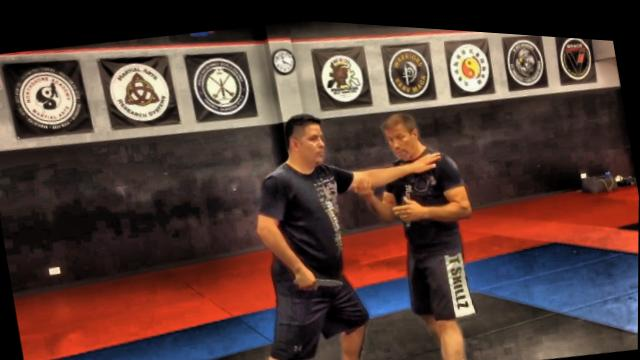knife: (291, 262, 346, 292)
